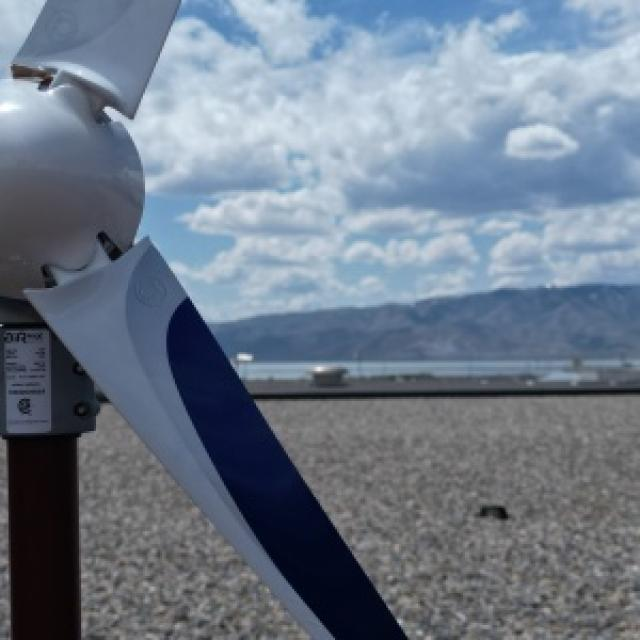healthy: (0, 0, 403, 638)
